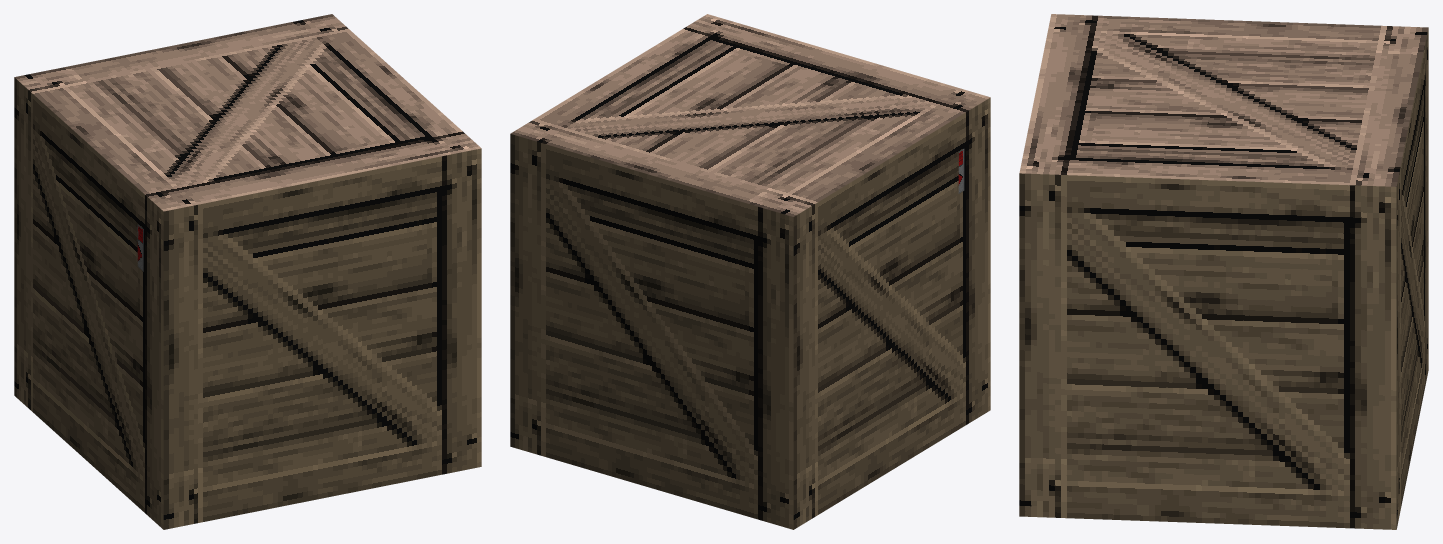
Rendered from primary_086.glb.
The picture shows the model from 3 angles, left to right: view 1: azimuth 30°, elevation 25°; view 2: azimuth 150°, elevation 25°; view 3: azimuth 270°, elevation 25°; orthographic projection. The views are drawn at different scales.
Parts seen in each view (by area): view 1: Object; view 2: Object; view 3: Object.
Part boxes in pixels (x1,y1,x2,y2): Object: (14,14,481,529); Object: (510,14,990,529); Object: (1019,14,1428,529).
Size of the model in its own units: 1.03 by 0.9499 by 1.03.
7 materials, 7 textured.
